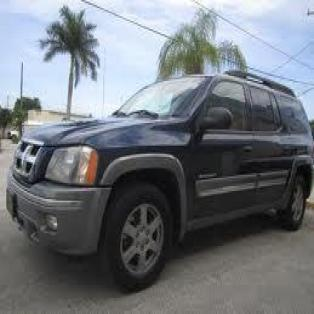Auto: (5, 68, 311, 291)
